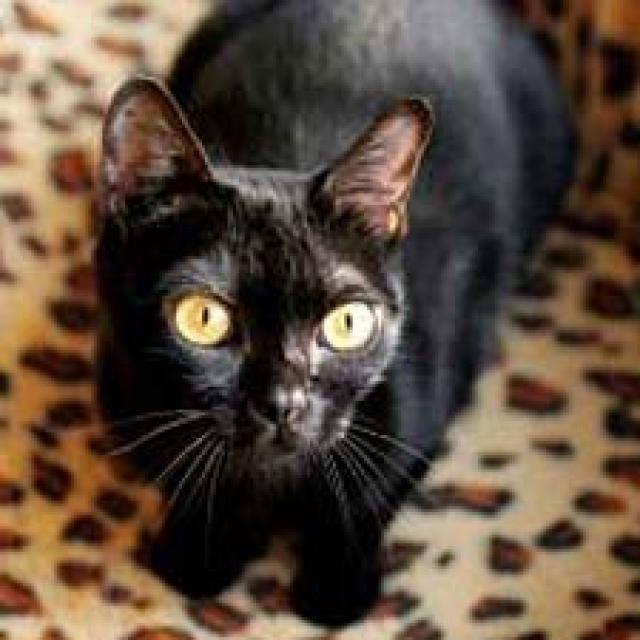Bombay: (91, 73, 424, 480)
